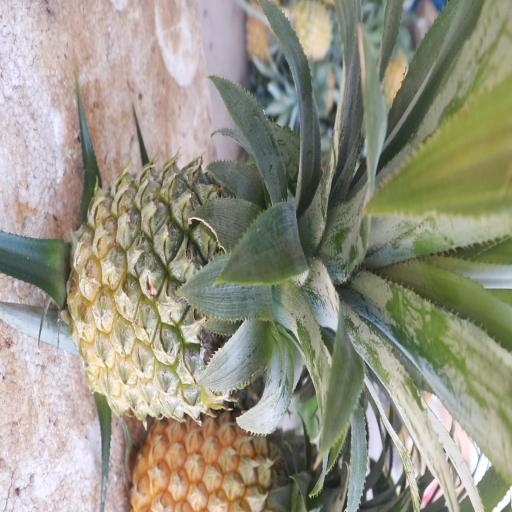------------------------------: (76, 168, 351, 414)
Pineapple - v8 v1: (133, 405, 358, 512)
